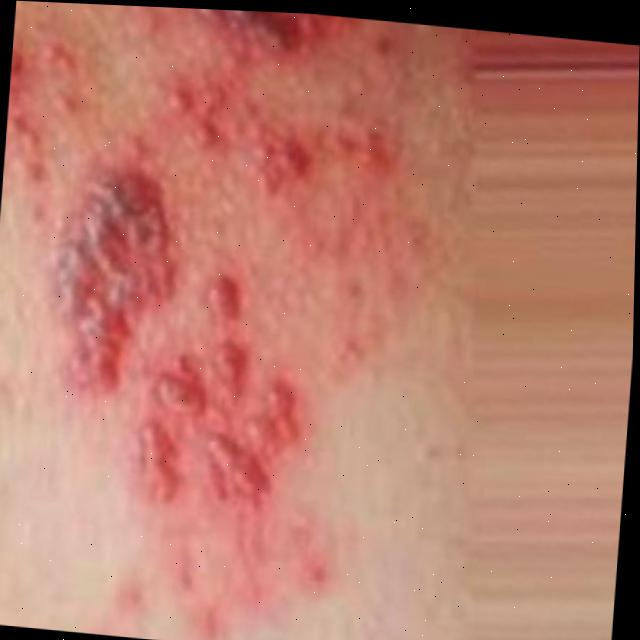Shingles: (0, 0, 403, 624)
